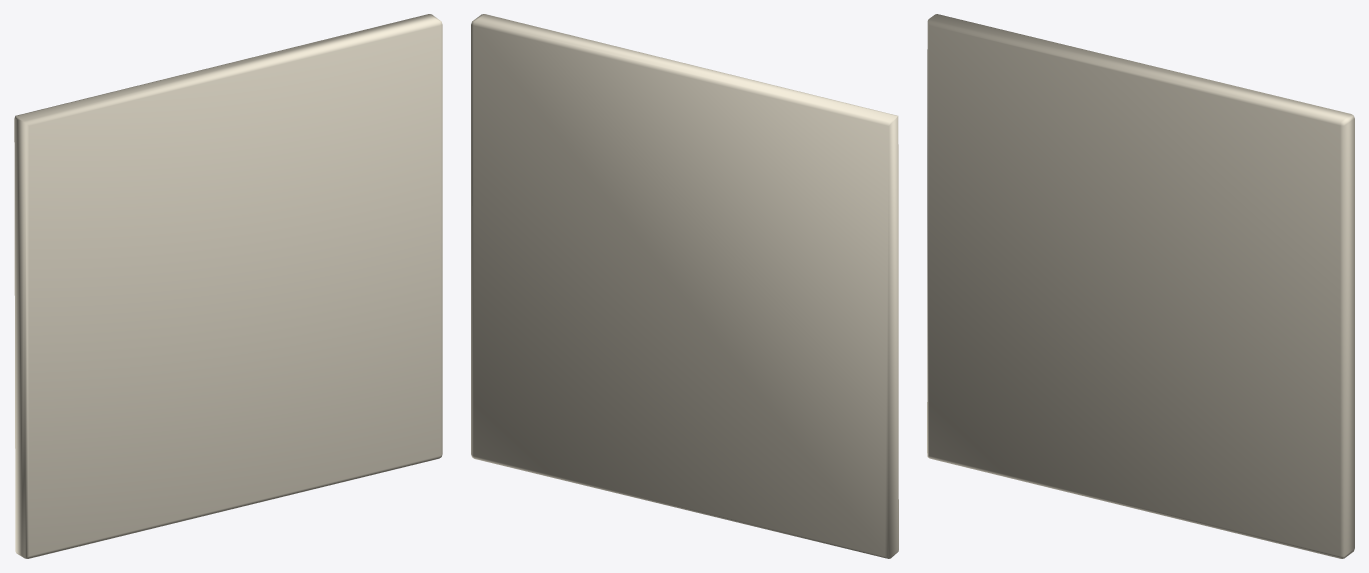
The model's file is build_floor_tile.glb.
3 renders of one model, left to right at view 1: azimuth 30°, elevation 25°; view 2: azimuth 150°, elevation 25°; view 3: azimuth 330°, elevation 25°, orthographic.
Parts seen in each view (by area): view 1: Floor; view 2: Floor; view 3: Floor.
Part boxes in pixels (left/top/right/bottom): Floor: left=14, top=14, right=442, bottom=558; Floor: left=471, top=14, right=898, bottom=558; Floor: left=927, top=14, right=1354, bottom=558.
Size of the model in its own units: 2.39 by 2.38 by 0.12.
